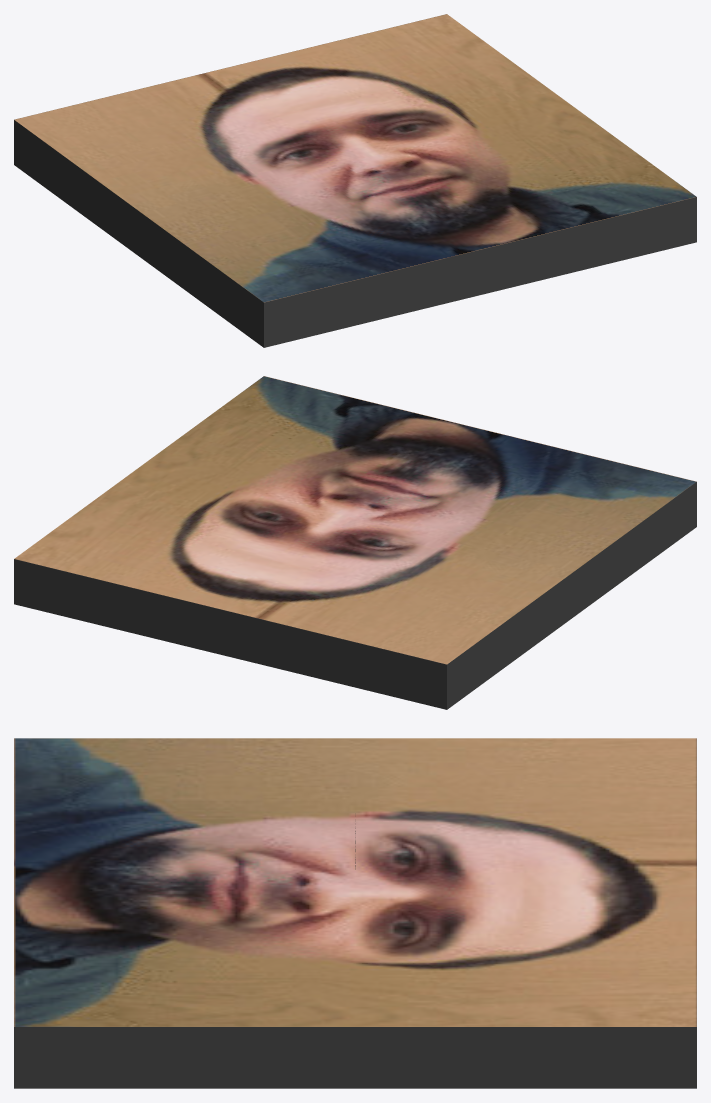
Rendered from puzzle.fbx.
3 renders of one model, top to bottom at view 1: azimuth 30°, elevation 25°; view 2: azimuth 150°, elevation 25°; view 3: azimuth 270°, elevation 25°, orthographic. The views are drawn at different scales.
Parts seen in each view (by area): view 1: PUZZEL1, PUZZEL2, PUZZEL4, PUZZEL3; view 2: PUZZEL4, PUZZEL3, PUZZEL1, PUZZEL2; view 3: PUZZEL2, PUZZEL3, PUZZEL1, PUZZEL4.
Boxes of the visible parts, box(x1,y1,x2,y2) form: PUZZEL1: box(139, 149, 480, 347); PUZZEL2: box(336, 105, 696, 294); PUZZEL4: box(14, 67, 375, 255); PUZZEL3: box(231, 14, 571, 166); PUZZEL4: box(199, 520, 571, 709); PUZZEL3: box(14, 454, 354, 656); PUZZEL1: box(356, 429, 696, 617); PUZZEL2: box(139, 376, 505, 520); PUZZEL2: box(14, 827, 355, 1088); PUZZEL3: box(225, 882, 696, 1088); PUZZEL1: box(14, 738, 490, 882); PUZZEL4: box(355, 738, 696, 938).
Size of the model in its own units: 200 by 20 by 200.
Materials: 2 (1 with a texture image).
